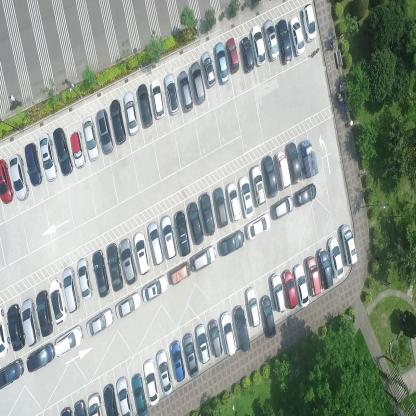car: (52, 127, 74, 178), (8, 154, 30, 202), (54, 324, 83, 360), (21, 298, 41, 348), (105, 241, 124, 292), (91, 249, 110, 300), (39, 132, 58, 182), (48, 278, 68, 325), (6, 304, 26, 351), (26, 341, 54, 374), (118, 240, 138, 286), (86, 307, 114, 339), (141, 273, 168, 306), (24, 142, 44, 186), (96, 108, 114, 156), (62, 266, 80, 314), (35, 290, 53, 338), (155, 348, 173, 396), (339, 223, 358, 268), (132, 230, 151, 274), (116, 289, 142, 321), (146, 221, 164, 267), (110, 98, 127, 146), (174, 209, 191, 257), (218, 227, 245, 257), (83, 115, 100, 162), (262, 19, 280, 63), (326, 235, 344, 279), (276, 17, 292, 66), (189, 60, 206, 106), (199, 191, 216, 237), (187, 200, 204, 246), (143, 358, 160, 404), (234, 304, 250, 352), (0, 358, 24, 390), (293, 263, 310, 308), (182, 334, 199, 379), (115, 376, 134, 416), (300, 136, 318, 178), (130, 372, 147, 416), (137, 83, 153, 129), (123, 90, 139, 136), (246, 211, 271, 240), (191, 244, 216, 273), (178, 69, 194, 114), (238, 174, 254, 219), (77, 257, 93, 302), (221, 311, 237, 356), (214, 41, 230, 85), (305, 254, 321, 298), (260, 294, 276, 338), (161, 214, 176, 260), (250, 24, 266, 67), (169, 339, 185, 382), (69, 129, 86, 169), (286, 142, 302, 184), (282, 268, 298, 310), (245, 286, 261, 328), (165, 72, 180, 116), (263, 154, 278, 198), (275, 151, 292, 189), (251, 164, 266, 207), (318, 246, 333, 289), (0, 158, 14, 204), (226, 182, 242, 222), (270, 272, 286, 312), (239, 36, 255, 74), (195, 323, 210, 363), (295, 183, 318, 209), (201, 51, 217, 88), (151, 78, 165, 120), (214, 186, 228, 228), (225, 37, 240, 76), (208, 319, 223, 358), (290, 14, 304, 55), (169, 260, 191, 286), (302, 2, 316, 42), (102, 383, 119, 415), (0, 306, 11, 355), (272, 196, 294, 220), (87, 392, 103, 415)
